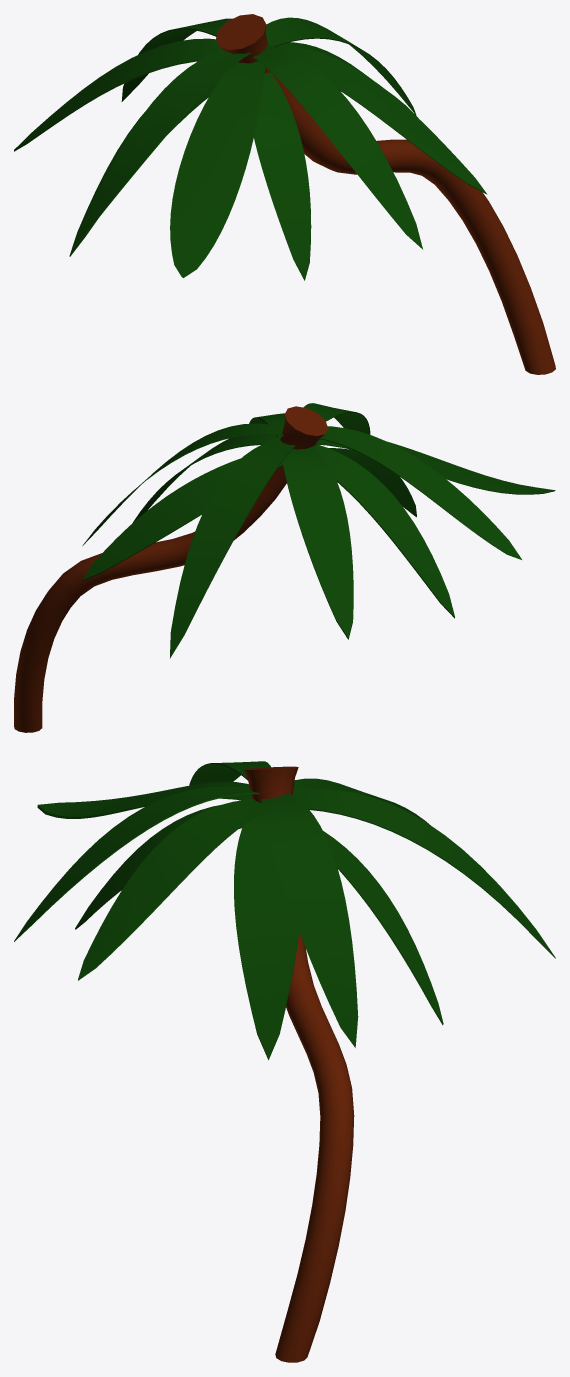
The model's file is 3D_PalmTree_3.FBX.
The picture shows the model from 3 angles, top to bottom: view 1: azimuth 30°, elevation 25°; view 2: azimuth 150°, elevation 25°; view 3: azimuth 270°, elevation 25°; orthographic projection. The views are drawn at different scales.
Visible parts, largest first — view 1: 3D_Palm_Tree_2; view 2: 3D_Palm_Tree_2; view 3: 3D_Palm_Tree_2.
Part boxes in pixels (x1,y1,x2,y2): 3D_Palm_Tree_2: [14, 14, 555, 374]; 3D_Palm_Tree_2: [14, 403, 555, 732]; 3D_Palm_Tree_2: [14, 761, 555, 1362].
Size of the model in its own units: 367 by 283 by 314.
